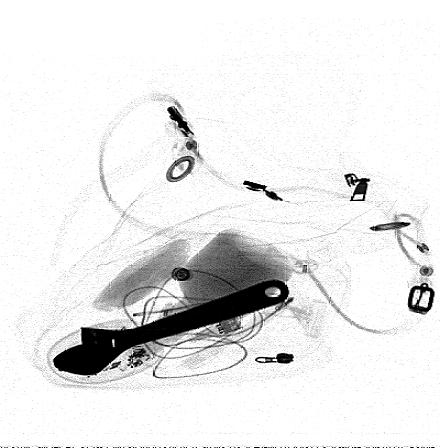Wrench: (52, 278, 291, 376)
